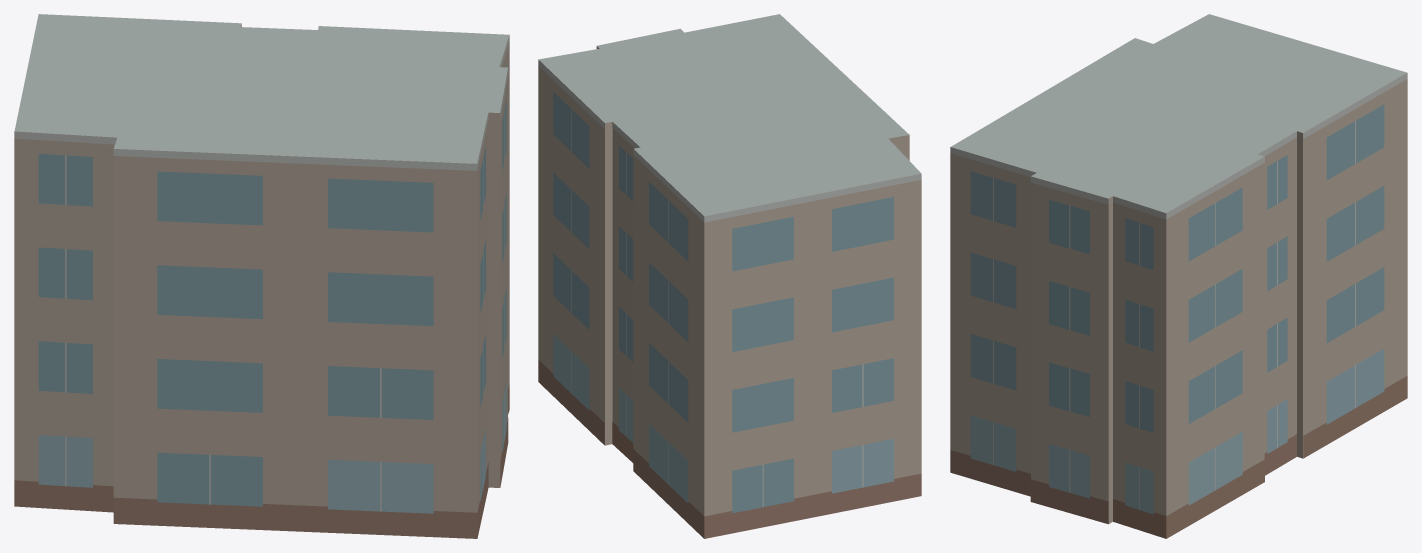
The model's file is survey-upis-32744686.glb.
3 renders of one model, left to right at view 1: azimuth 30°, elevation 25°; view 2: azimuth 150°, elevation 25°; view 3: azimuth 270°, elevation 25°, orthographic. The views are drawn at different scales.
Parts seen in each view (by area): view 1: survey-upis-32744686.tmp; view 2: survey-upis-32744686.tmp; view 3: survey-upis-32744686.tmp.
Boxes of the visible parts, x1,y1,x2,y2 form: survey-upis-32744686.tmp: (14, 14, 509, 538); survey-upis-32744686.tmp: (538, 14, 921, 538); survey-upis-32744686.tmp: (950, 14, 1407, 538).
Bounding box in the file's own units: 16.94 × 12.9 × 16.42.
